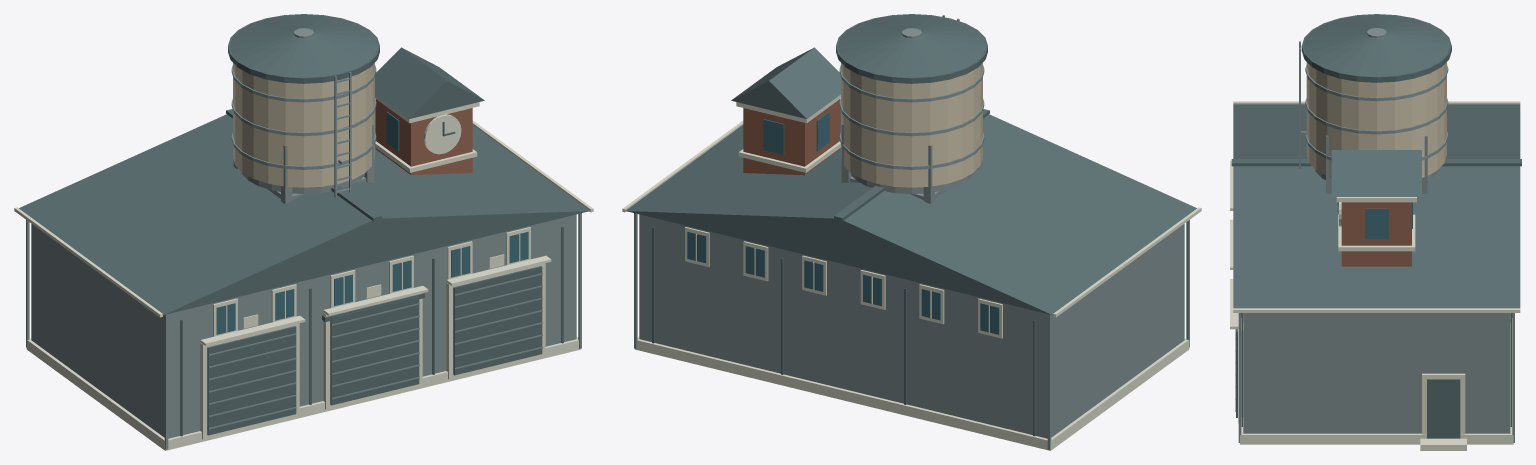
The model's file is landscape-kit-v1.glb.
3 renders of one model, left to right at view 1: azimuth 30°, elevation 25°; view 2: azimuth 150°, elevation 25°; view 3: azimuth 270°, elevation 25°, orthographic.
Visible parts, largest first — view 1: Warehouse_Roof, Warehouse_Steel, Warehouse_Trim, WaterTower_Plaster, WaterTower_Roof, Station_Roof, WaterTower_Steel, Station_Brick, Warehouse_Glass, Station_Trim; view 2: Warehouse_Steel, Warehouse_Roof, WaterTower_Plaster, Warehouse_Trim, WaterTower_Roof, Station_Roof, Station_Brick, WaterTower_Steel, Warehouse_Glass, Station_Trim, Station_Glass; view 3: Warehouse_Roof, Warehouse_Steel, WaterTower_Plaster, WaterTower_Roof, Warehouse_Trim, Station_Roof, Station_Brick, WaterTower_Steel, Station_Trim, Station_Glass.
Part boxes in pixels (x1,y1,x2,y2): Warehouse_Roof: (19,109,589,436); Warehouse_Steel: (26,213,581,449); Warehouse_Trim: (14,120,593,450); WaterTower_Plaster: (233,63,374,187); WaterTower_Roof: (228,14,379,83); Station_Roof: (322,47,484,322); WaterTower_Steel: (231,28,376,204); Station_Brick: (375,99,472,175); Warehouse_Glass: (216,231,528,334); Station_Trim: (375,94,479,172); Warehouse_Steel: (634,213,1189,449); Warehouse_Roof: (626,109,1196,436); WaterTower_Plaster: (841,63,982,187); Warehouse_Trim: (622,120,1201,450); WaterTower_Roof: (836,14,987,83); Station_Roof: (731,47,840,118); Station_Brick: (743,99,840,175); WaterTower_Steel: (839,15,984,204); Warehouse_Glass: (687,231,999,334); Station_Trim: (736,94,840,172); Station_Glass: (763,111,829,154); Warehouse_Roof: (1231,104,1521,438); Warehouse_Steel: (1235,313,1514,442); WaterTower_Plaster: (1306,62,1446,177); WaterTower_Roof: (1301,14,1451,82); Warehouse_Trim: (1230,101,1520,450); Station_Roof: (1331,150,1421,211); Station_Brick: (1341,202,1411,266); WaterTower_Steel: (1299,28,1448,193); Station_Trim: (1336,197,1416,251); Station_Glass: (1365,202,1412,239).
Bounding box in the file's own units: 14.95 × 10.34 × 8.75.
